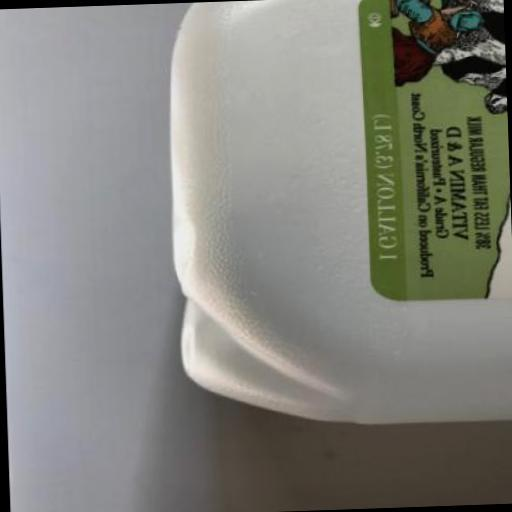plastic: (159, 0, 512, 431)
